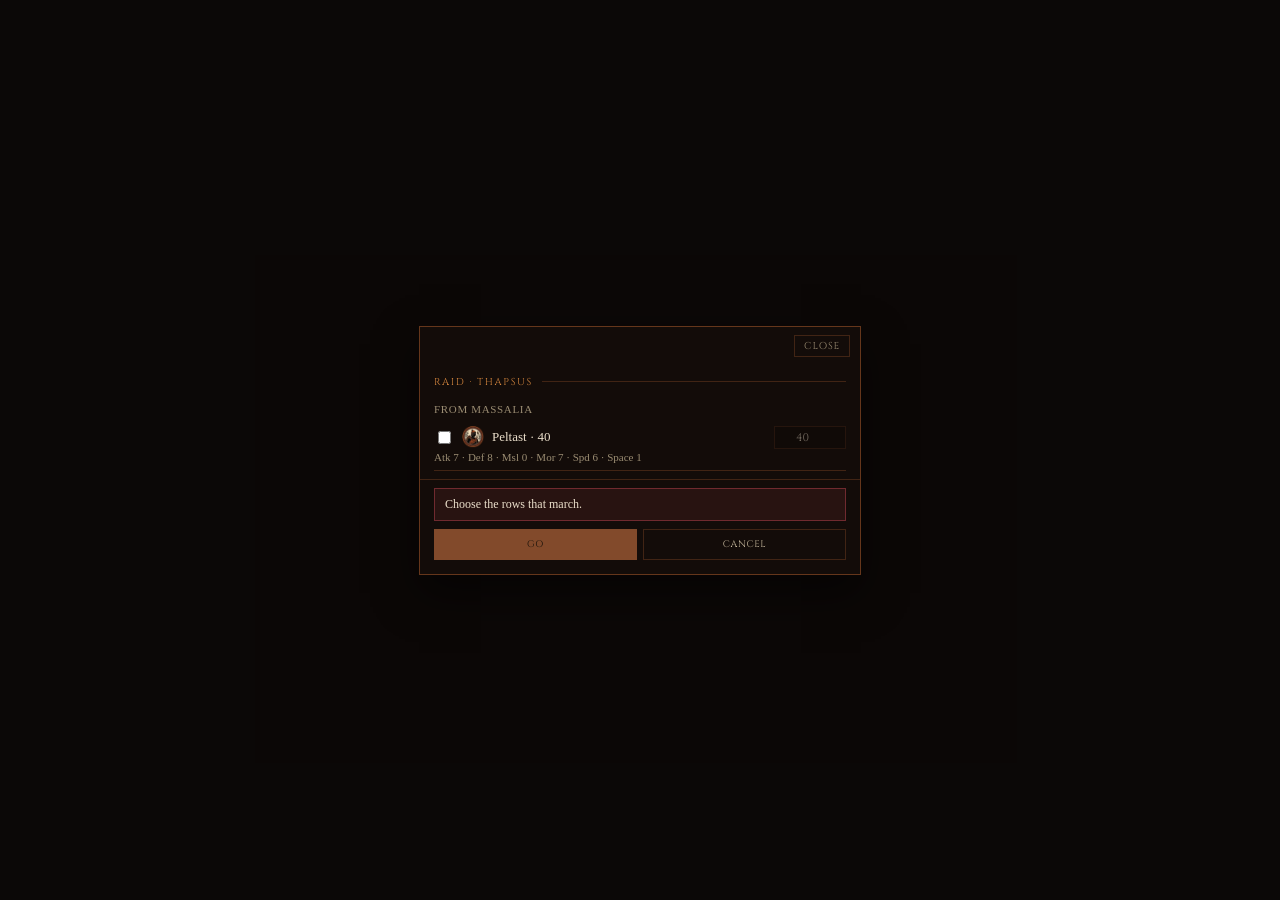
Test: the League's order sheet and the treasury › the house's force picker is as it was: no treasury line, its own stock checked, its own words
This screenshot has width=1280, height=900.
Click the checkbox named "Peltast, 40" at (444, 437), box [438,430,451,444]
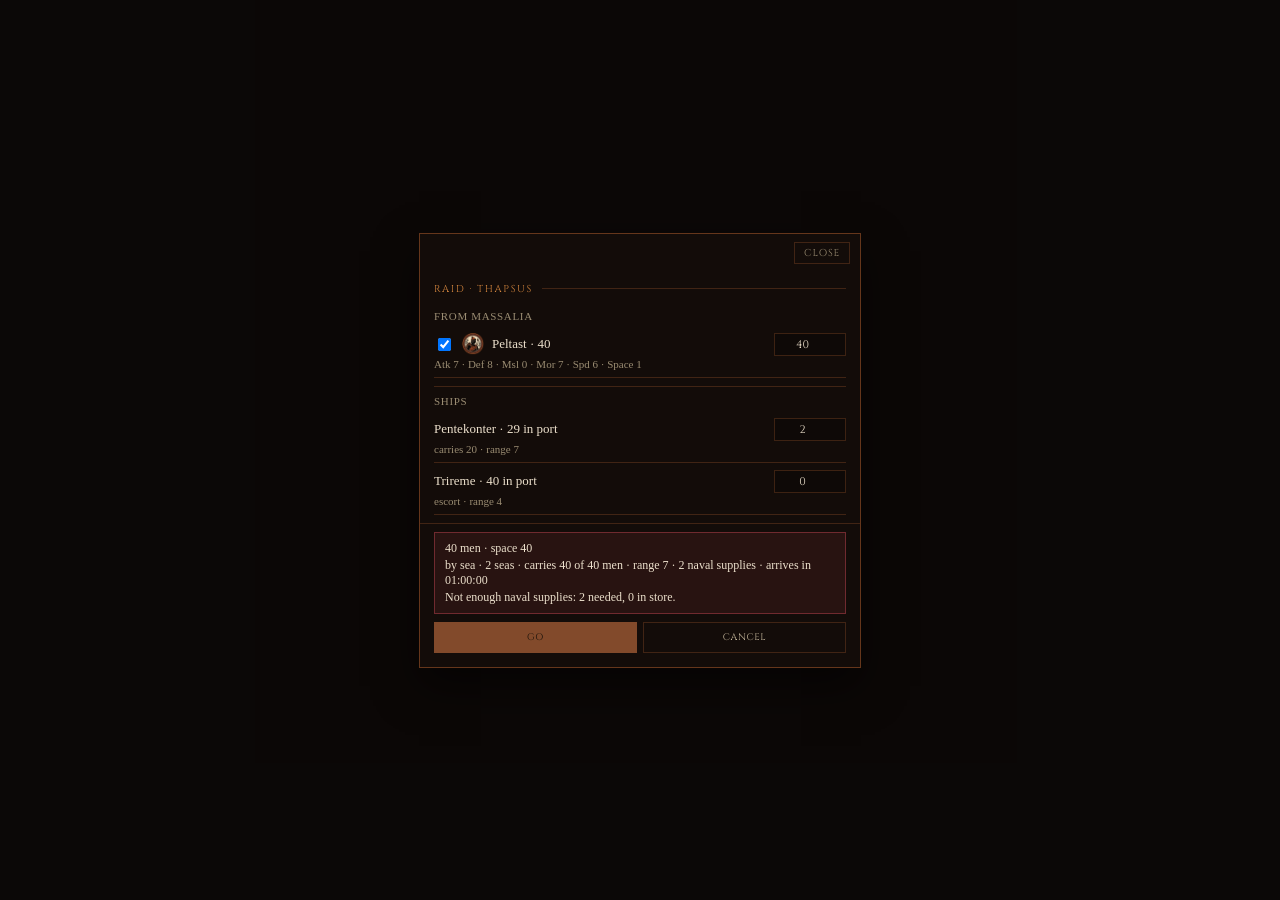
Result: the element with class "w2map-verdict" shows "Not enough naval supplies: 2 needed, 0 in store." at [445,590,676,604]
